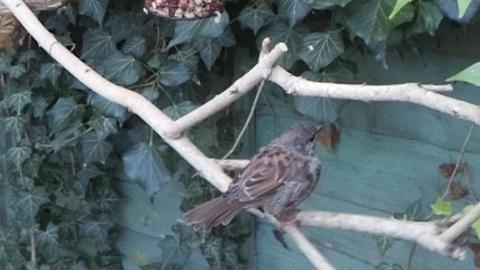dunnock: (177, 124, 324, 232)
